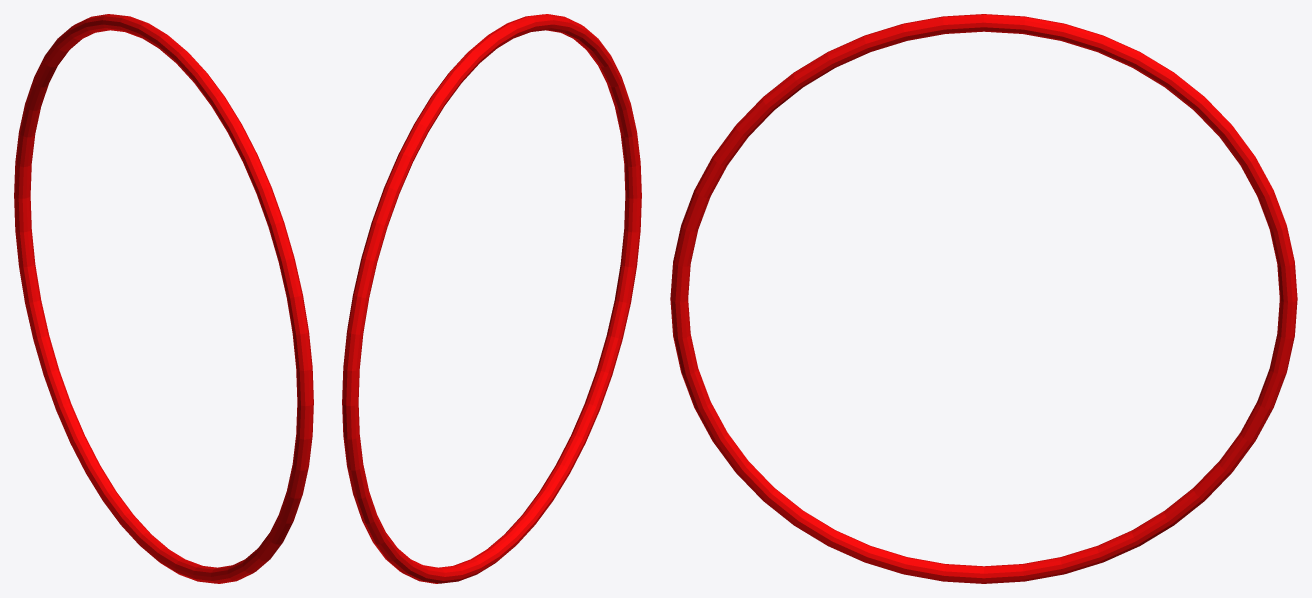
File: red_ring.obj
The picture shows the model from 3 angles, left to right: view 1: azimuth 30°, elevation 25°; view 2: azimuth 150°, elevation 25°; view 3: azimuth 270°, elevation 25°; orthographic projection. The views are drawn at different scales.
Visible parts, largest first — view 1: Torus; view 2: Torus; view 3: Torus.
Part boxes in pixels (x1=…): Torus: x1=14, y1=14, x2=313, y2=583; Torus: x1=342, y1=14, x2=641, y2=583; Torus: x1=670, y1=14, x2=1297, y2=583.
Bounding box in the file's own units: 0.0585 × 2.06 × 2.06.
